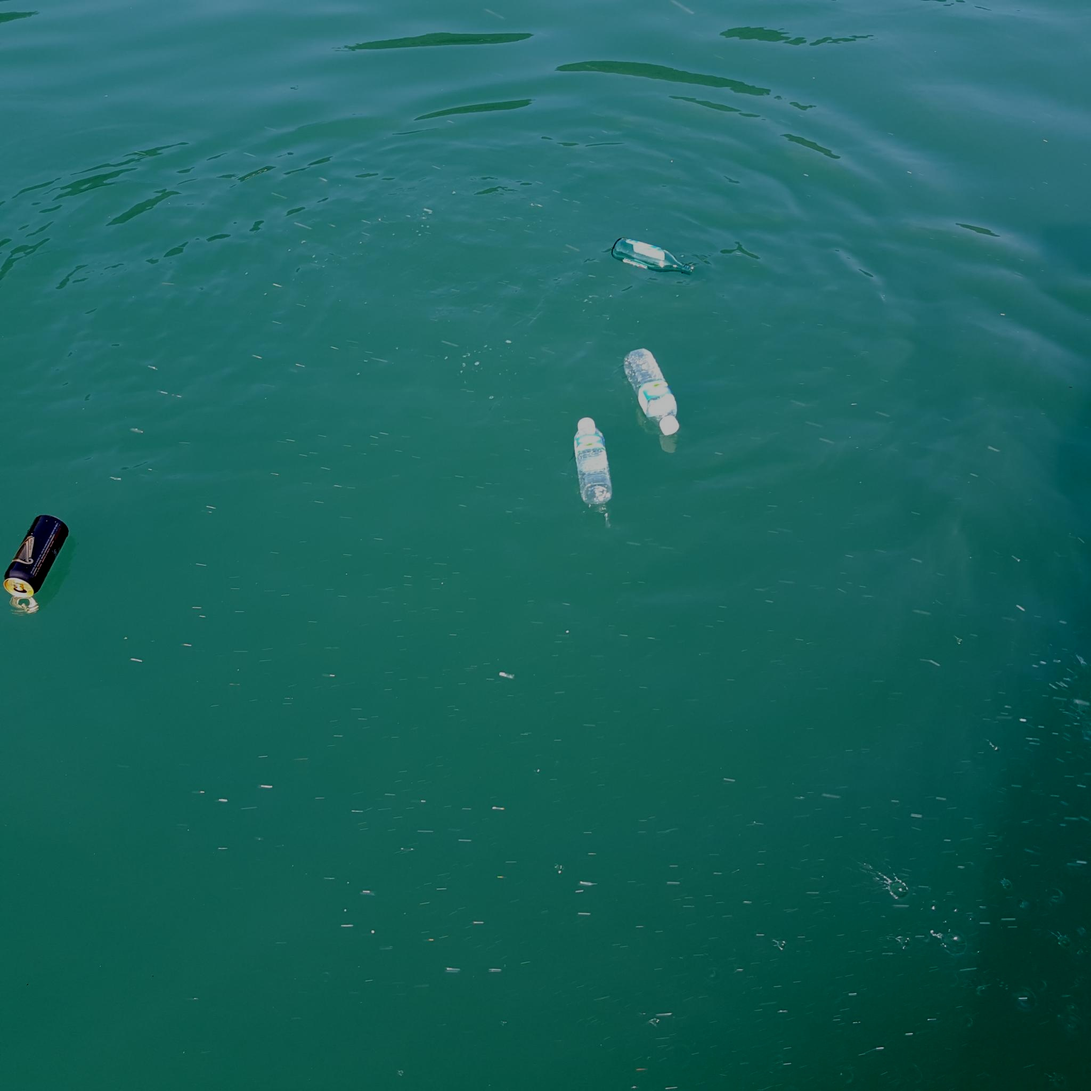sampah_terapung: (4, 516, 70, 598), (624, 348, 680, 436), (574, 418, 613, 505), (612, 238, 695, 276)
